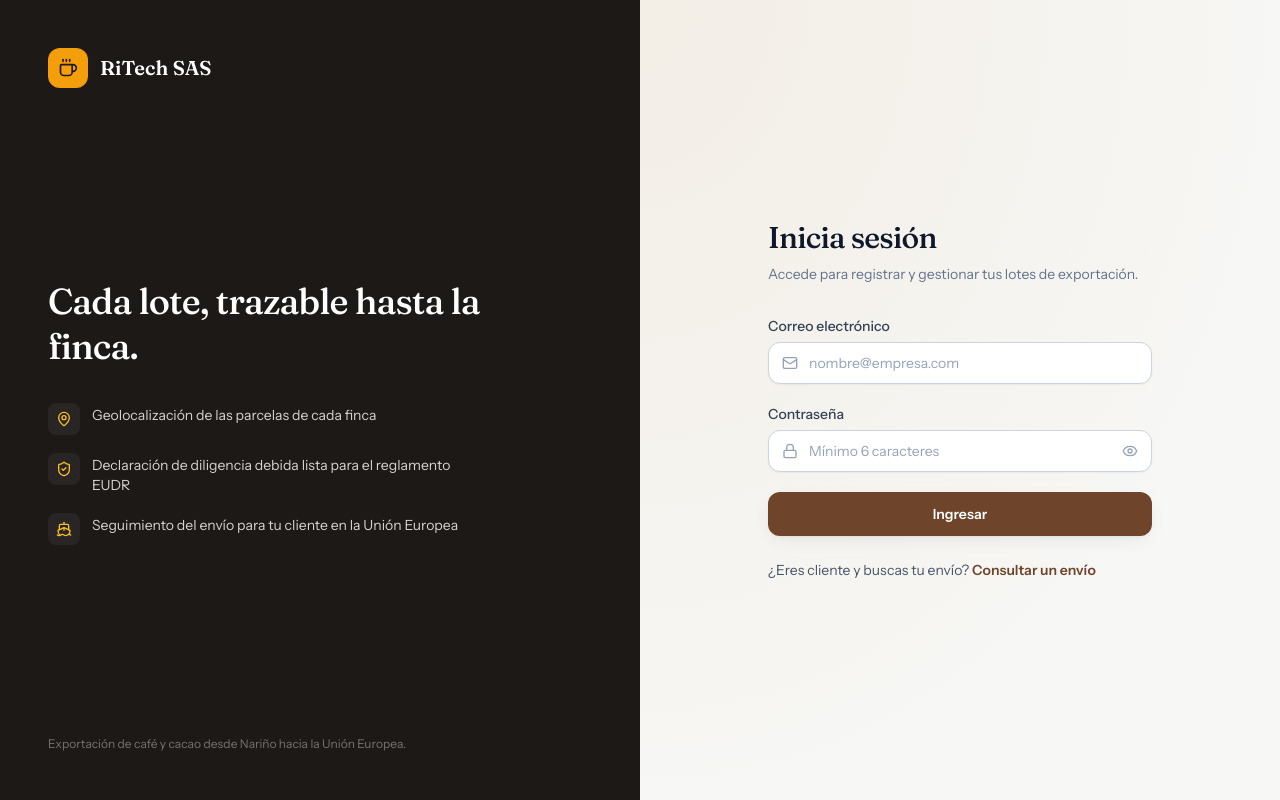
Test: LoginView (unitaria) › muestra error con un correo inválido
In the field labelled "Correo electrónico": (960, 363) [768,342,1152,384], type "correo-malo"
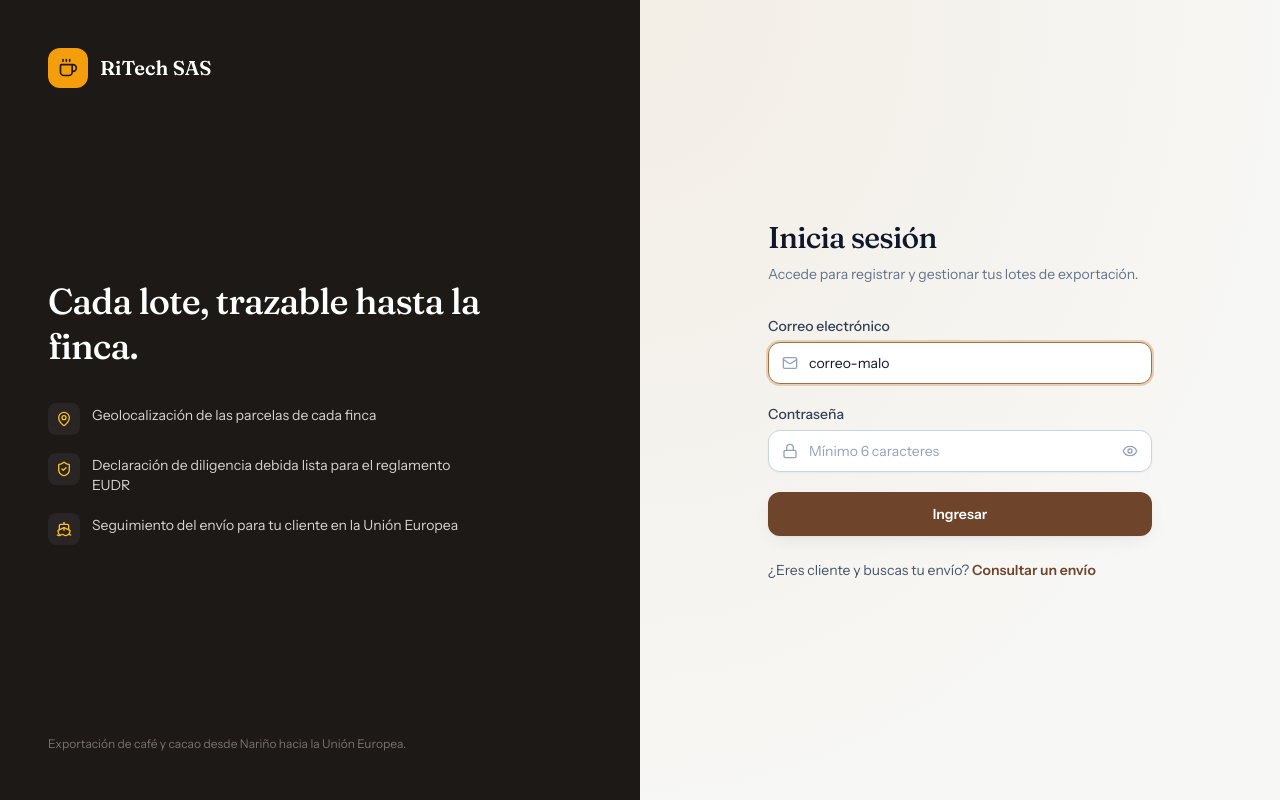
In the password field labelled "Contraseña": (960, 451) [768,430,1152,472], type "123456"
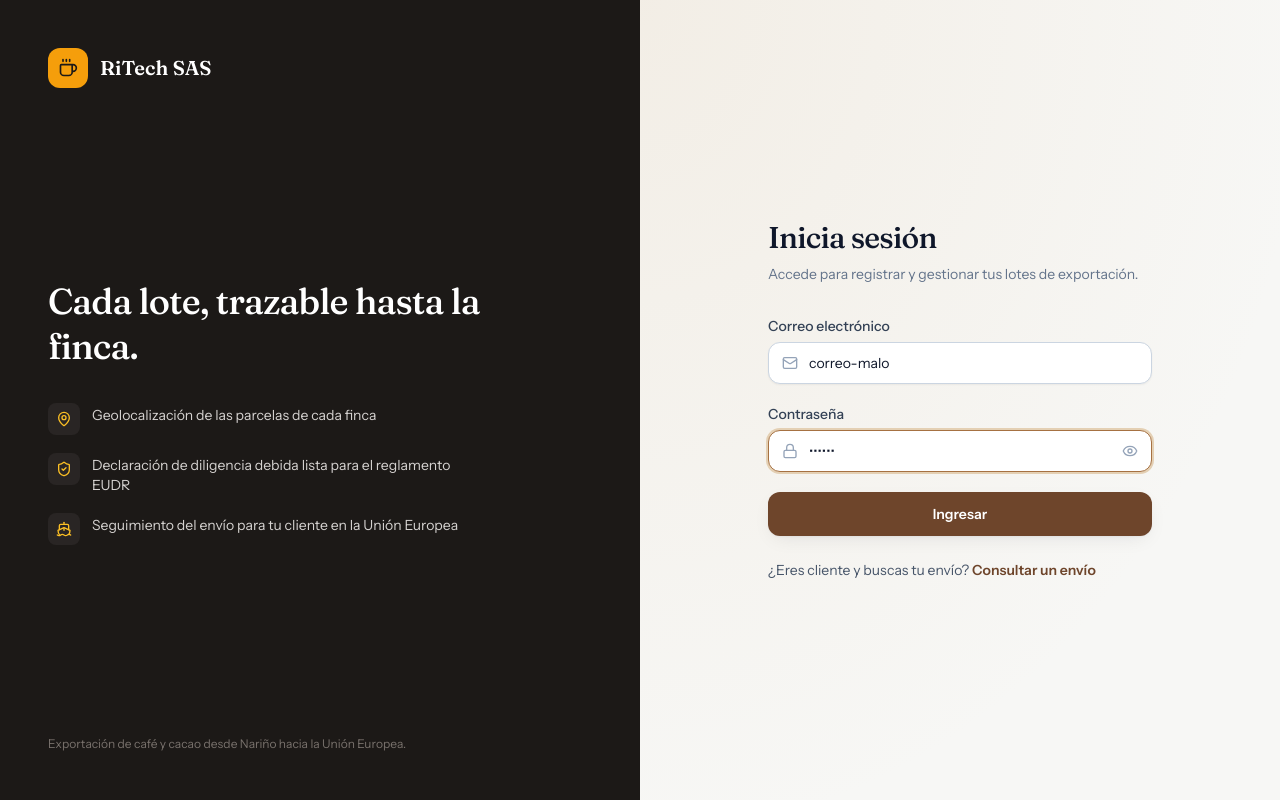
Click the button "Ingresar": (960, 514) [768,492,1152,536]
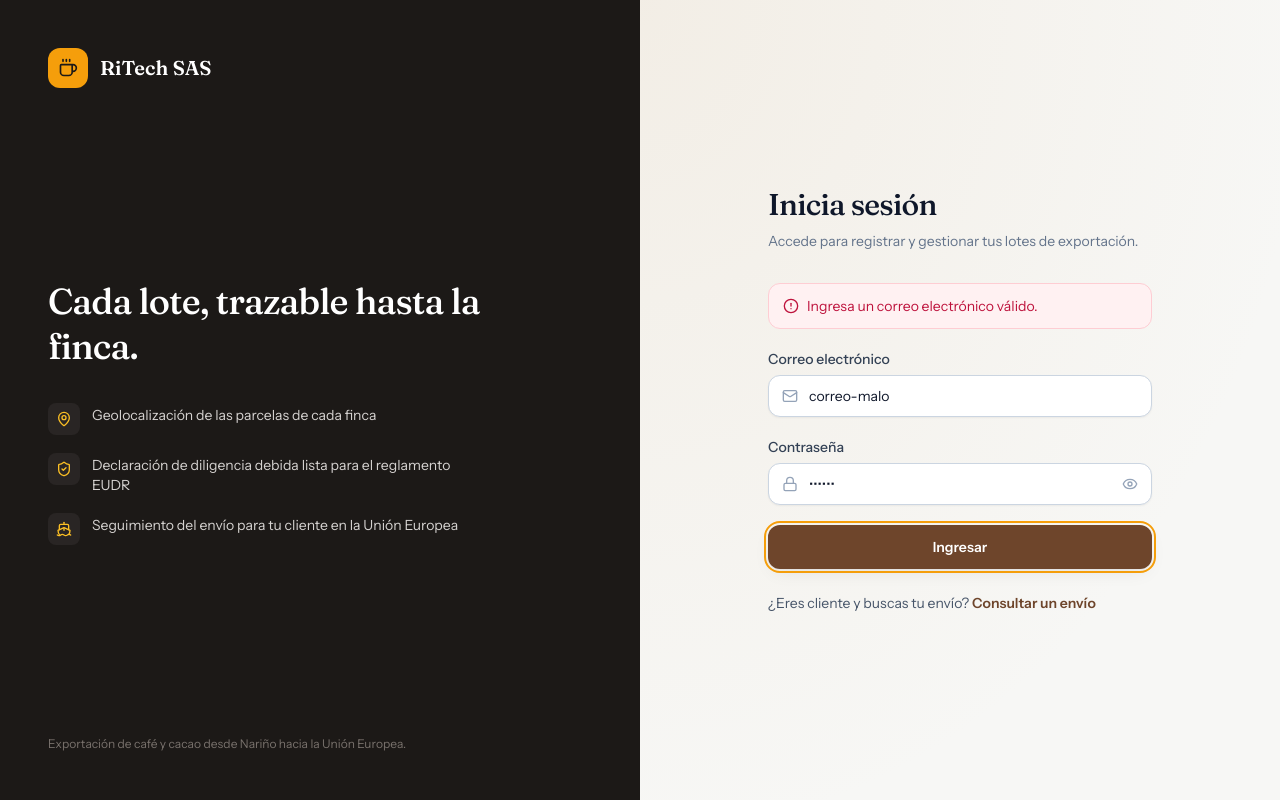
Expected: the message reads "Ingresa un correo electrónico válido.", [807,297,1038,315]
